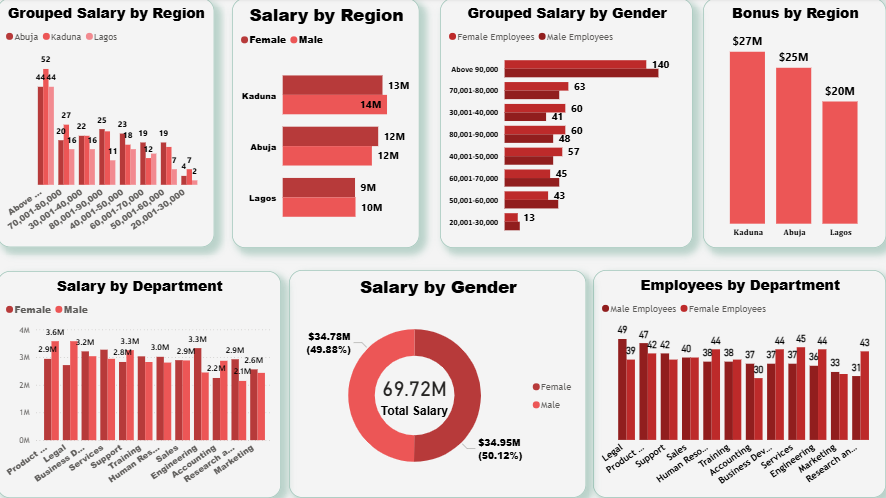

This screenshot's page, from the dashboard's own definition file:
{"tool":"powerbi","page":{"name":"DASHBOARD 2","canvas":[1280,720],"ordinal":1},"visuals":[{"type":"clusteredColumnChart","title":"Salary by  Department","fields":{"Category":["Palmoria Group emp-data (1).Department"],"Series":["Palmoria Group emp-data (1).Gender"],"Y":["Sum(Palmoria Group emp-data (1).Salary)"]},"box":[0,393.1,409,326.9],"z":0},{"type":"clusteredBarChart","title":"Salary by Region","fields":{"Series":["Palmoria Group emp-data (1).Gender"],"Category":["Palmoria Group emp-data (1).Location"],"Y":["Sum(Palmoria Group emp-data (1).Salary)"]},"box":[338,0,270,360],"z":1000},{"type":"clusteredBarChart","title":"Grouped Salary by Gender","fields":{"Category":["Palmoria Group emp-data (1).Grouped Salary by band of 10,000"],"Y":["Palmoria Group emp-data (1).Female Employees","Palmoria Group emp-data (1).Male Employees"]},"box":[638,0,364,360],"z":2000},{"type":"clusteredColumnChart","title":"Grouped Salary by Region","fields":{"Category":["Palmoria Group emp-data (1).Grouped Salary by band of 10,000"],"Series":["Palmoria Group emp-data (1).Location"],"Y":["Palmoria Group emp-data (1).Female Employees"]},"box":[0,0,312.8,359.3],"z":3000},{"type":"clusteredColumnChart","title":"Employees by Department","fields":{"Category":["Palmoria Group emp-data (1).Department"],"Y":["Palmoria Group emp-data (1).Male Employees","Palmoria Group emp-data (1).Female Employees"]},"box":[858,392,422,328],"z":4000},{"type":"donutChart","title":" Salary by Gender","fields":{"Category":["Palmoria Group emp-data (1).Gender"],"Y":["Sum(Palmoria Group emp-data (1).Salary)"]},"box":[420.5,391.7,427.7,328.3],"z":5000},{"type":"columnChart","title":" Bonus by Region","fields":{"Category":["Merge1.Location"],"Y":["Sum(Merge1.Total Salary inclusive of bonus)"]},"box":[1016,0,264,360],"z":6000},{"type":"card","fields":{"Values":["Sum(Palmoria Group emp-data (1).Salary)"]},"box":[495.4,518.4,211.7,103.7],"z":7000}]}

Visuals, with their boxes in screenshot pixels (x1, y1, x2, y2), scaled from the page's 1280x720 canvas onto the 886x498 screenshot:
"Salary by  Department" clusteredColumnChart: [left=0, top=272, right=283, bottom=497]
"Salary by Region" clusteredBarChart: [left=234, top=0, right=421, bottom=249]
"Grouped Salary by Gender" clusteredBarChart: [left=442, top=0, right=694, bottom=249]
"Grouped Salary by Region" clusteredColumnChart: [left=0, top=0, right=217, bottom=249]
"Employees by Department" clusteredColumnChart: [left=594, top=271, right=885, bottom=497]
" Salary by Gender" donutChart: [left=291, top=271, right=587, bottom=497]
" Bonus by Region" columnChart: [left=703, top=0, right=885, bottom=249]
card - Sum(Palmoria Group emp-data (1).Salary): [left=343, top=359, right=489, bottom=430]
